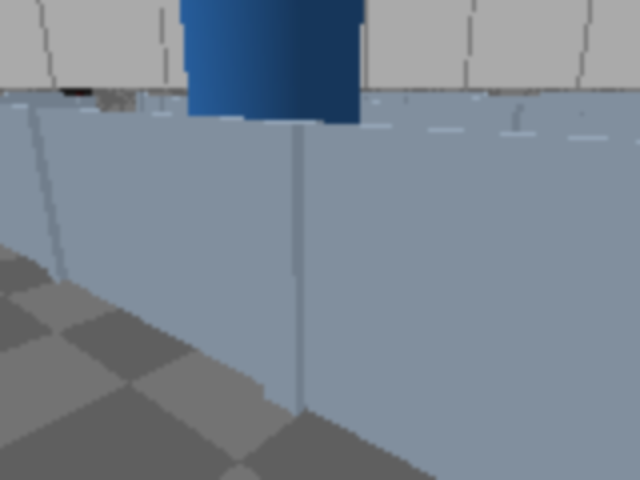person: (0, 0, 7, 181)
